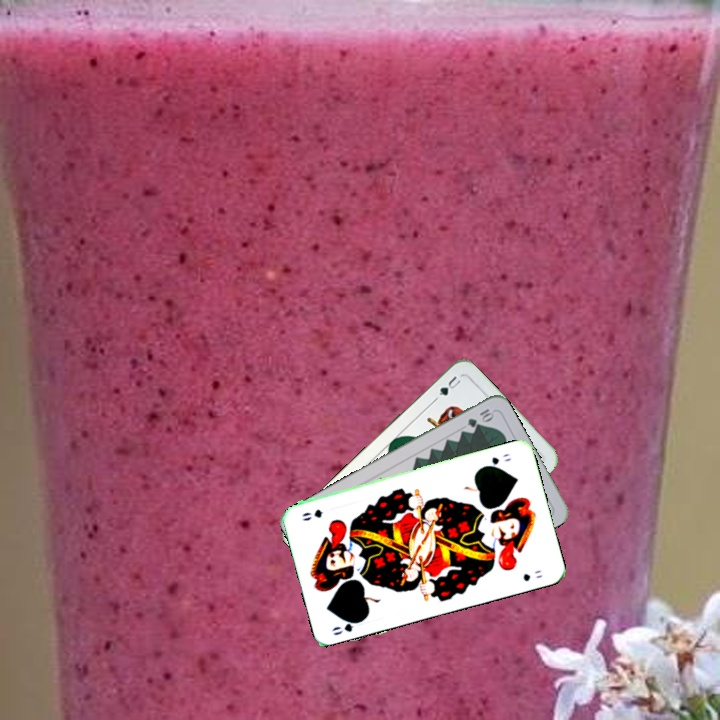G10: (463, 405, 496, 430)
GO: (328, 615, 367, 638), (479, 450, 513, 470)
GU: (430, 372, 463, 403)
